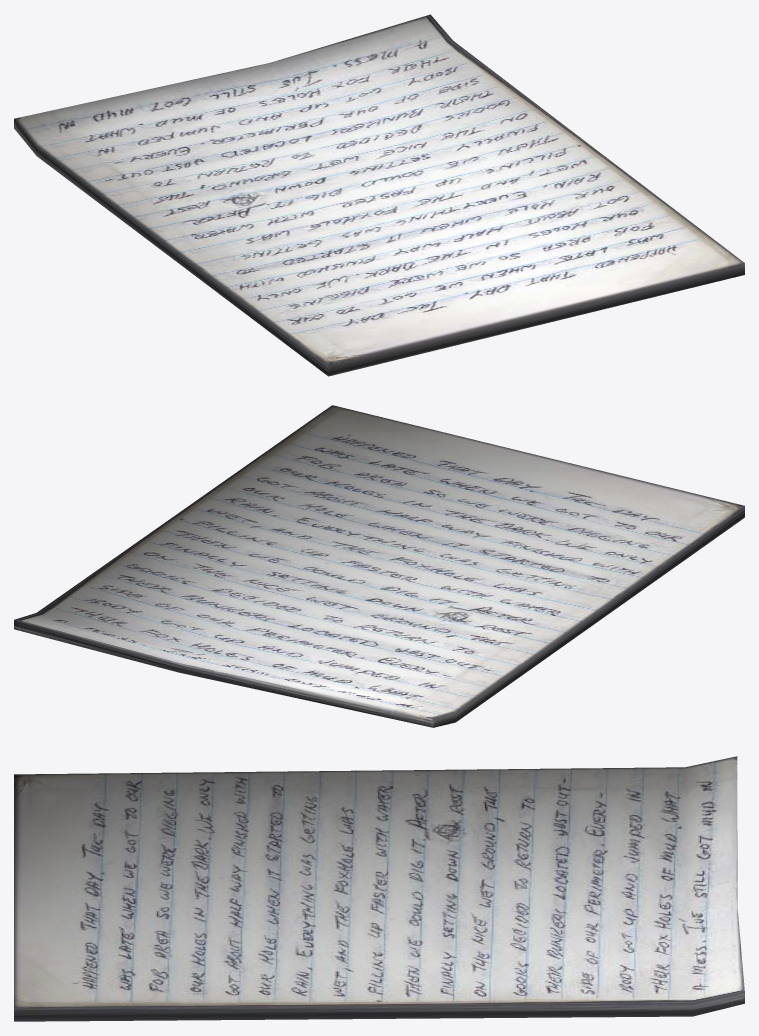
File: Notepad01.FBX
The picture shows the model from 3 angles, top to bottom: view 1: azimuth 30°, elevation 25°; view 2: azimuth 150°, elevation 25°; view 3: azimuth 270°, elevation 25°; orthographic projection. The views are drawn at different scales.
Parts seen in each view (by area): view 1: Box173; view 2: Box173; view 3: Box173.
Part boxes in pixels (x1,y1,x2,y2): Box173: (14,14,744,376); Box173: (14,405,744,727); Box173: (14,756,744,1021).
Size of the model in its own units: 101 by 6.36 by 133.
1 material, 1 textured.
